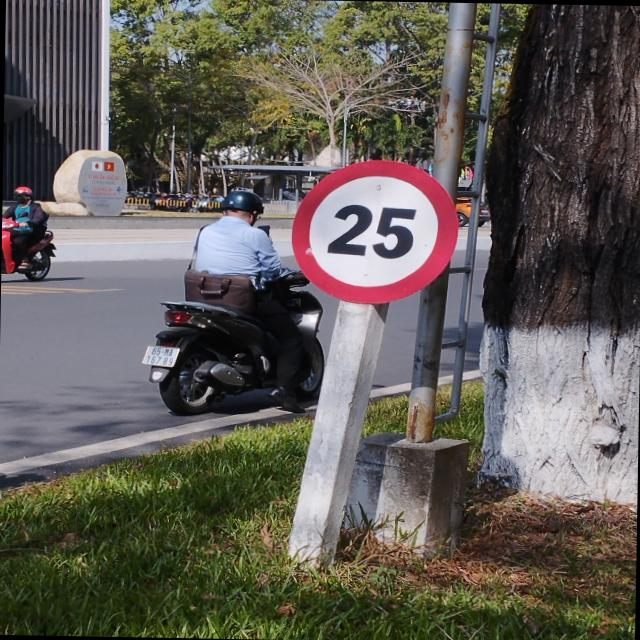Tre_Em: (290, 158, 458, 306)
